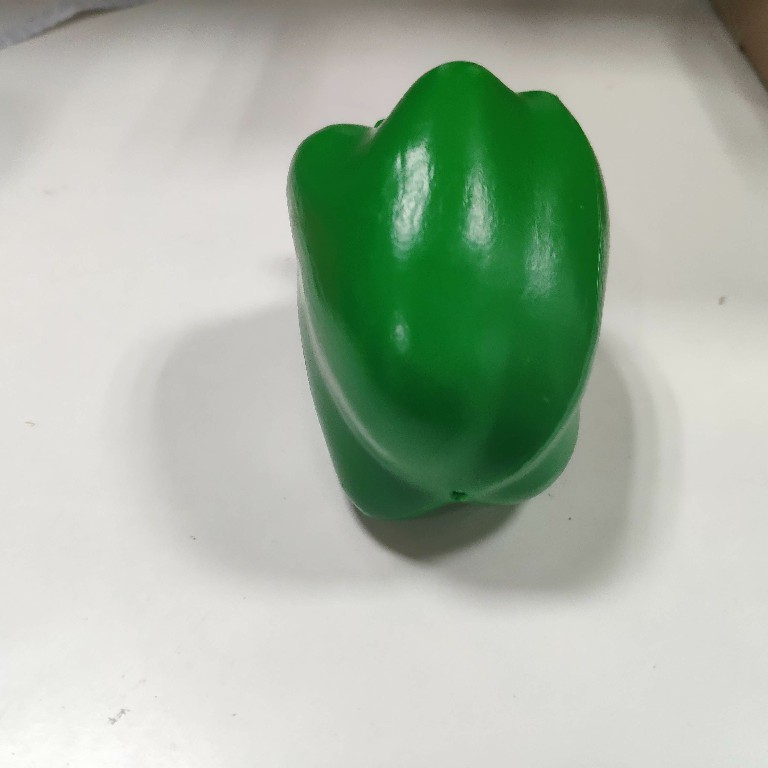fruit_pepper: (285, 57, 614, 527)
